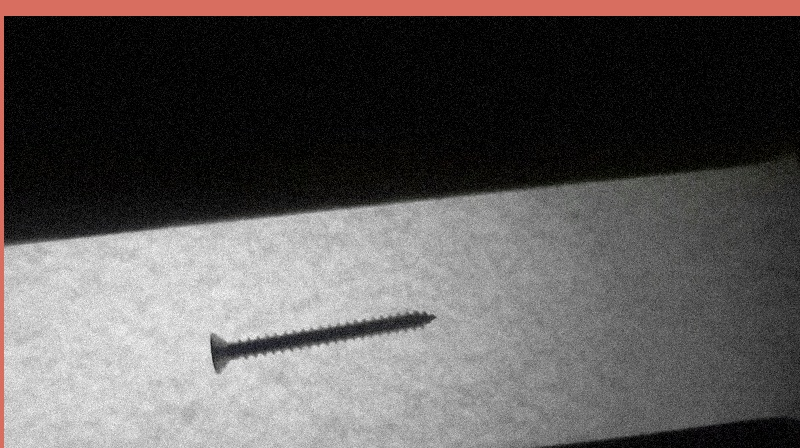S002: (206, 307, 439, 376)
